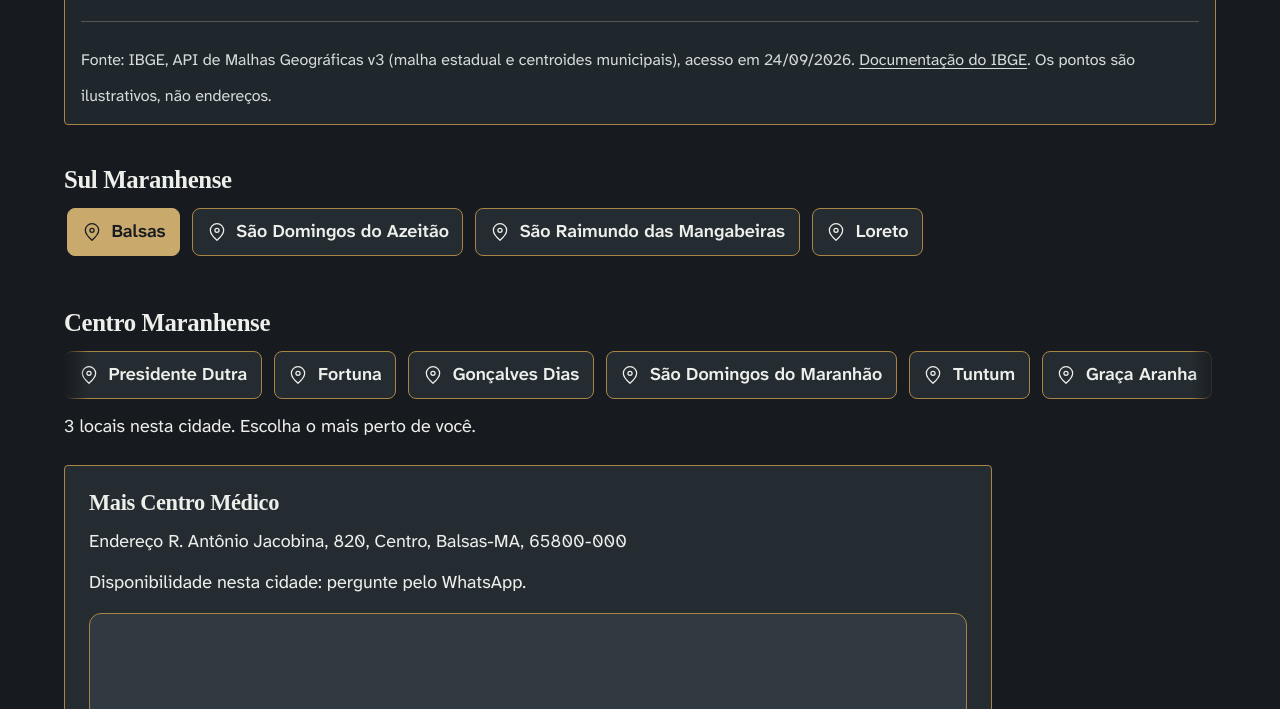
Test: SeletorCidade sincronizado com a cidade escolhida (parecer R13) › escolha feita na aba aparece no seletor
The image size is (1280, 709).
(page scrolled)
Click the tab "Tuntum" at (969, 375), box left=909, top=351, right=1030, bottom=399
(page scrolled)
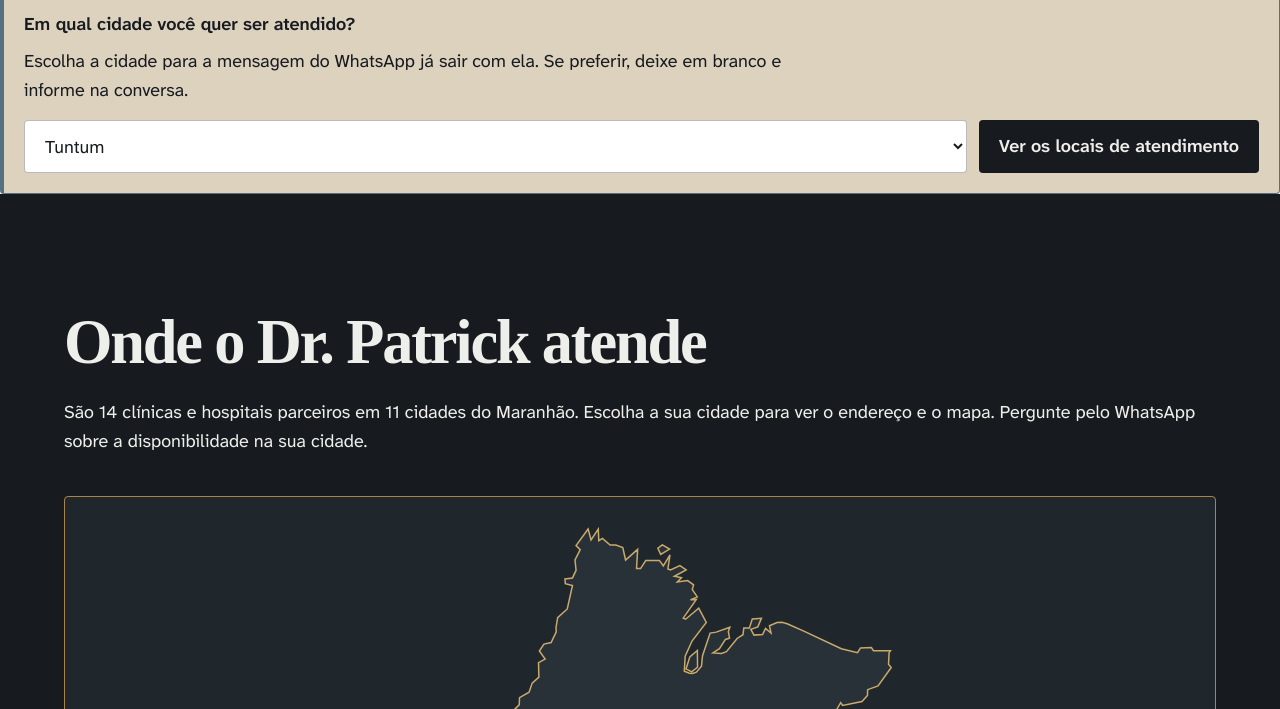
Expected: the dropdown shows "Tuntum", left=24, top=120, right=967, bottom=173
